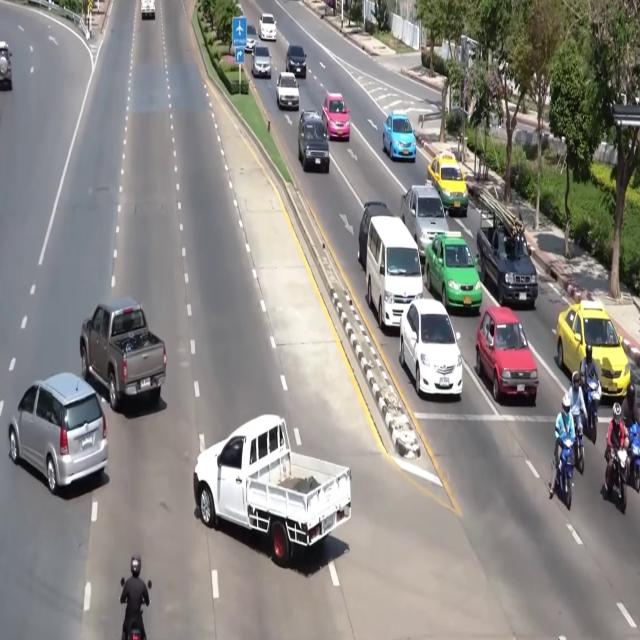car: (8, 373, 107, 494), (557, 301, 630, 397), (400, 298, 462, 397), (476, 307, 538, 404), (425, 232, 482, 312), (400, 184, 448, 259), (428, 152, 468, 216), (358, 201, 393, 268), (298, 110, 330, 173), (383, 111, 416, 162), (322, 93, 349, 141), (276, 72, 299, 111), (285, 45, 306, 78), (251, 45, 271, 78), (0, 41, 12, 89), (259, 14, 276, 41), (245, 24, 257, 52)
scooty: (555, 438, 574, 510), (606, 448, 627, 513), (585, 378, 601, 444), (627, 422, 639, 491), (573, 415, 584, 473), (127, 610, 144, 639)
truck: (193, 415, 350, 567), (80, 297, 166, 411), (477, 189, 538, 308), (141, 0, 155, 19)
